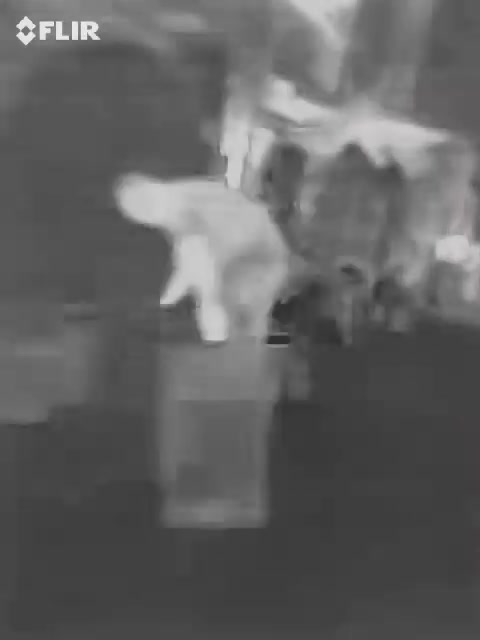head: (109, 169, 169, 233)
